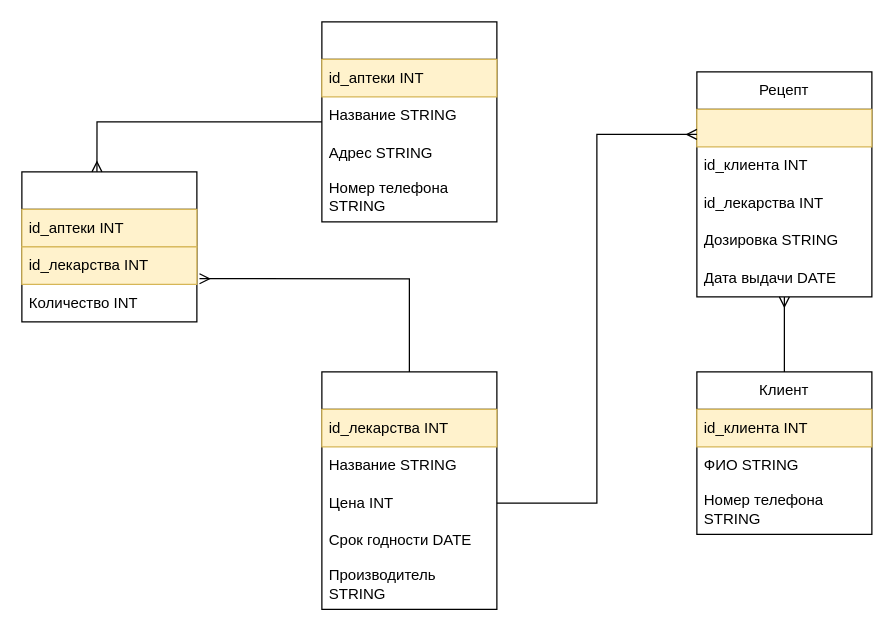
Image size: 894x631. Some labels were removed from this diagram. Here are the shapes that lost their labels. From the top down, the box of each, then its label:
(321, 21, 497, 222): Аптека
(696, 108, 872, 147): id_рецепта INT
(21, 171, 197, 322): Наличие лекарства в аптеке
(321, 371, 497, 609): Лекарство
